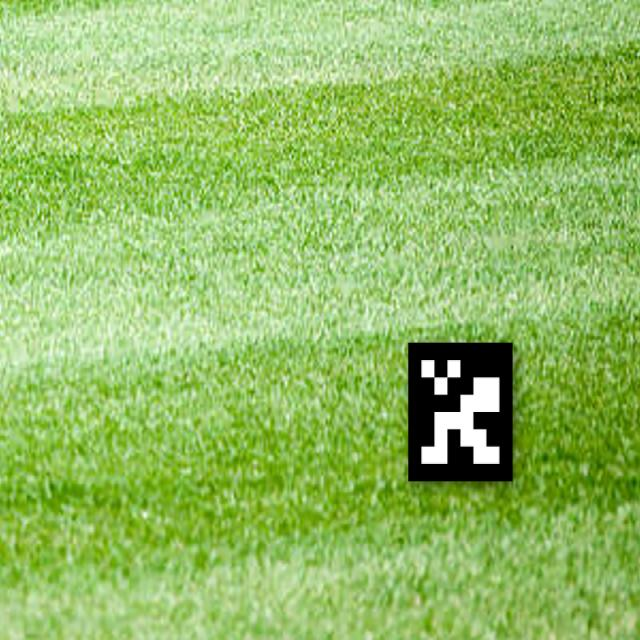marker: (401, 328, 524, 494)
